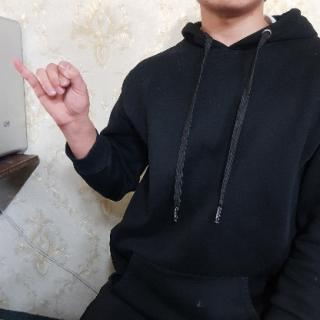MEEM: (11, 53, 92, 127)
